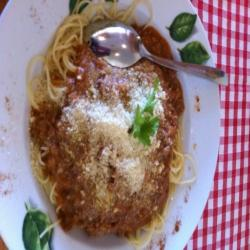bolonese_pasta: (17, 7, 188, 241)
